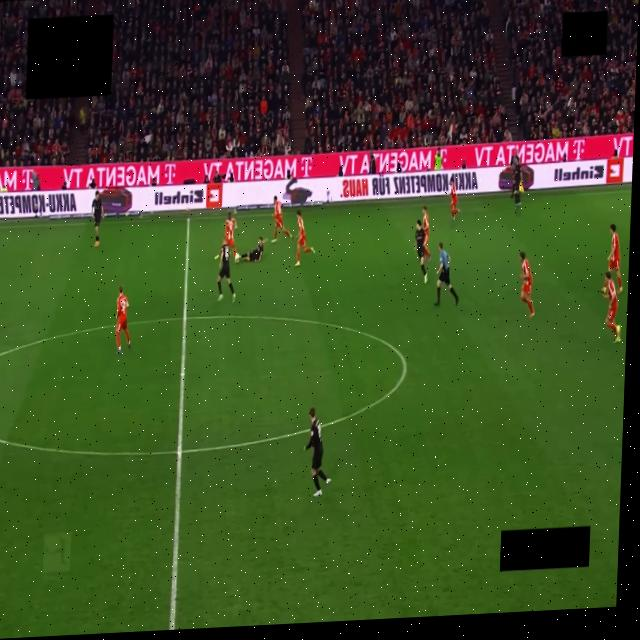ball: (234, 253, 240, 262)
player: (304, 407, 330, 497), (601, 272, 620, 342), (217, 244, 235, 302), (295, 210, 313, 266), (115, 287, 130, 353), (607, 224, 621, 293), (271, 196, 291, 242), (519, 252, 533, 317), (415, 219, 427, 283), (91, 192, 103, 247), (240, 237, 263, 262), (224, 212, 236, 258), (511, 156, 521, 208), (225, 212, 236, 258), (422, 207, 430, 261), (450, 176, 459, 221)
referee: (434, 243, 458, 306)
